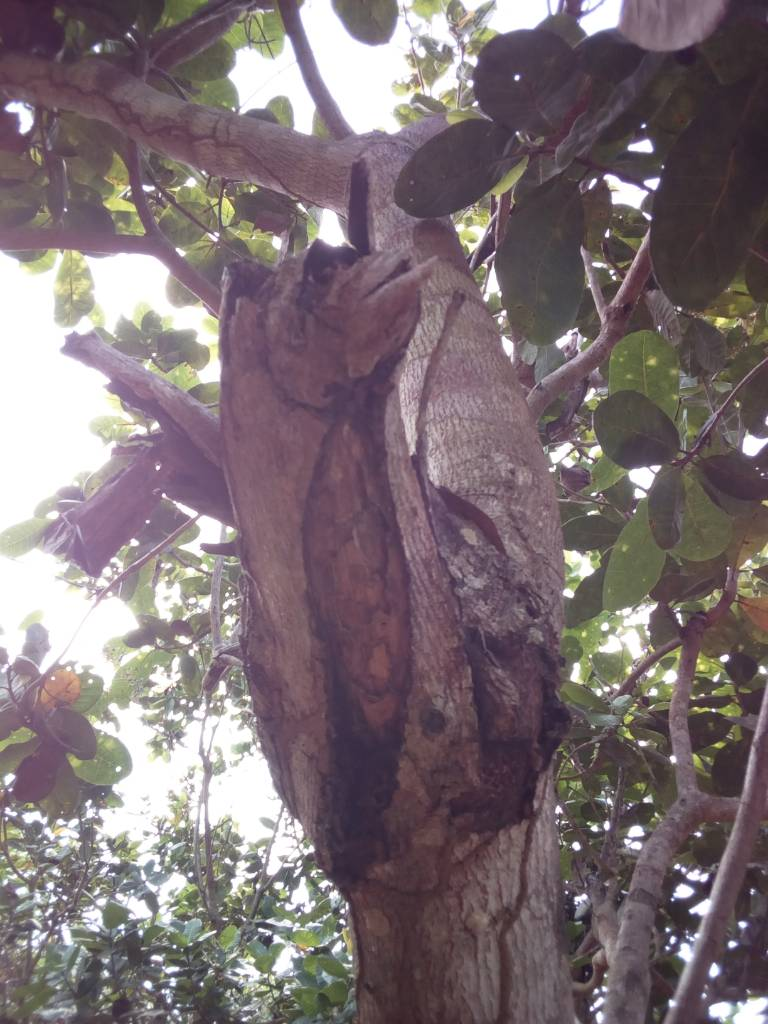Analepse trifasciata: (160, 217, 458, 430)
